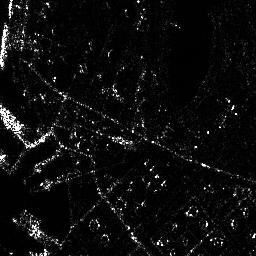ship: (1, 102, 25, 131), (1, 21, 10, 68)
